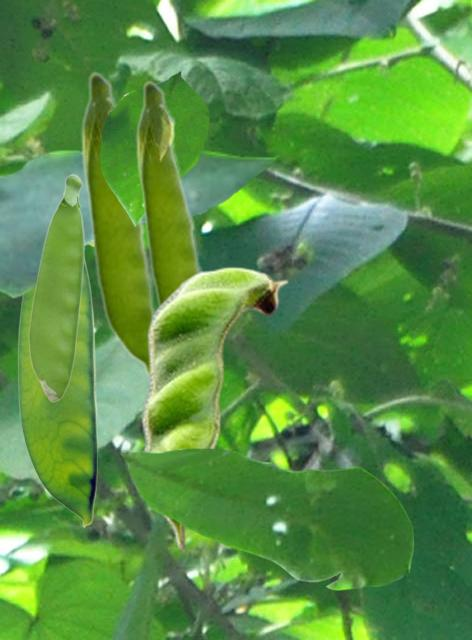pea: (136, 266, 288, 552), (80, 70, 156, 381), (17, 245, 96, 526), (135, 79, 205, 304), (28, 173, 84, 401)
